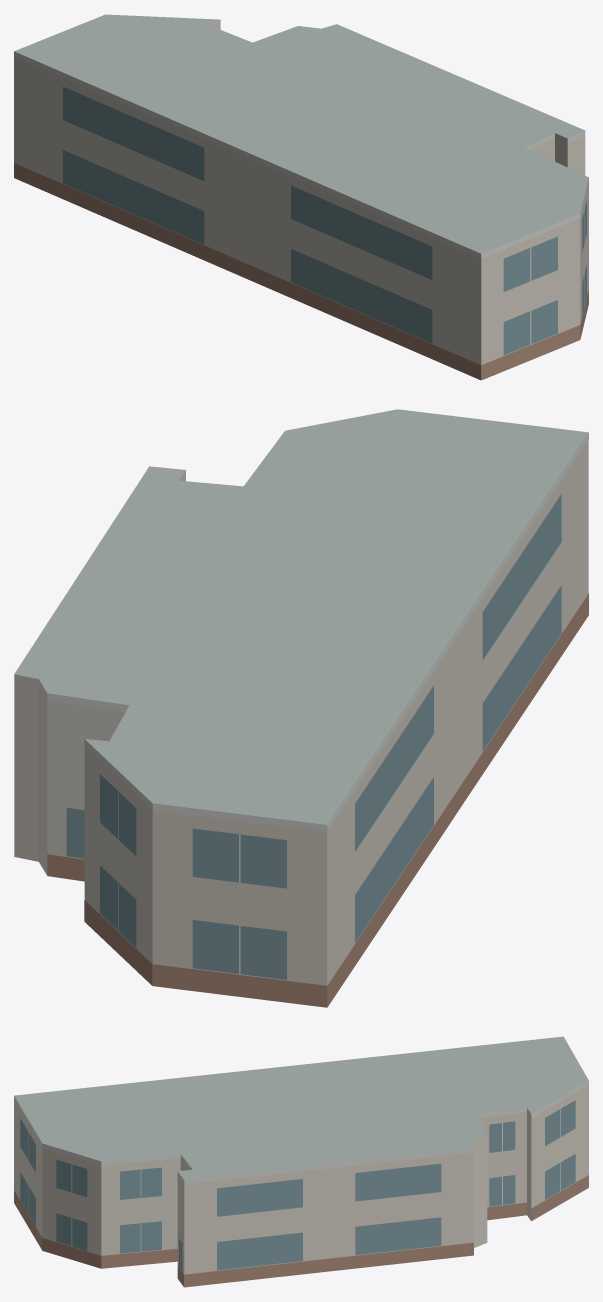
File: survey-upis-32787816.glb
3 views of the same model, one above another, from view 1: azimuth 30°, elevation 25°; view 2: azimuth 150°, elevation 25°; view 3: azimuth 270°, elevation 25° (orthographic). The views are drawn at different scales.
Visible parts, largest first — view 1: survey-upis-32787816.tmp; view 2: survey-upis-32787816.tmp; view 3: survey-upis-32787816.tmp.
Part boxes in pixels (bbox=[...]): survey-upis-32787816.tmp: bbox=[14, 14, 588, 380]; survey-upis-32787816.tmp: bbox=[14, 409, 588, 1007]; survey-upis-32787816.tmp: bbox=[14, 1036, 588, 1287].
Bounding box in the file's own units: 17.51 × 6.1 × 29.61.
